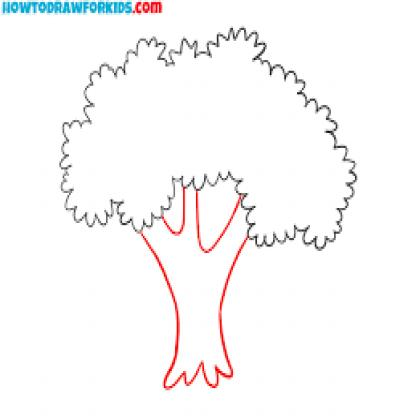branch_cut: (133, 173, 254, 268)
crown_cloud: (56, 20, 358, 256)
root_only: (160, 346, 238, 397)
trunk_reflex: (164, 282, 236, 341)
